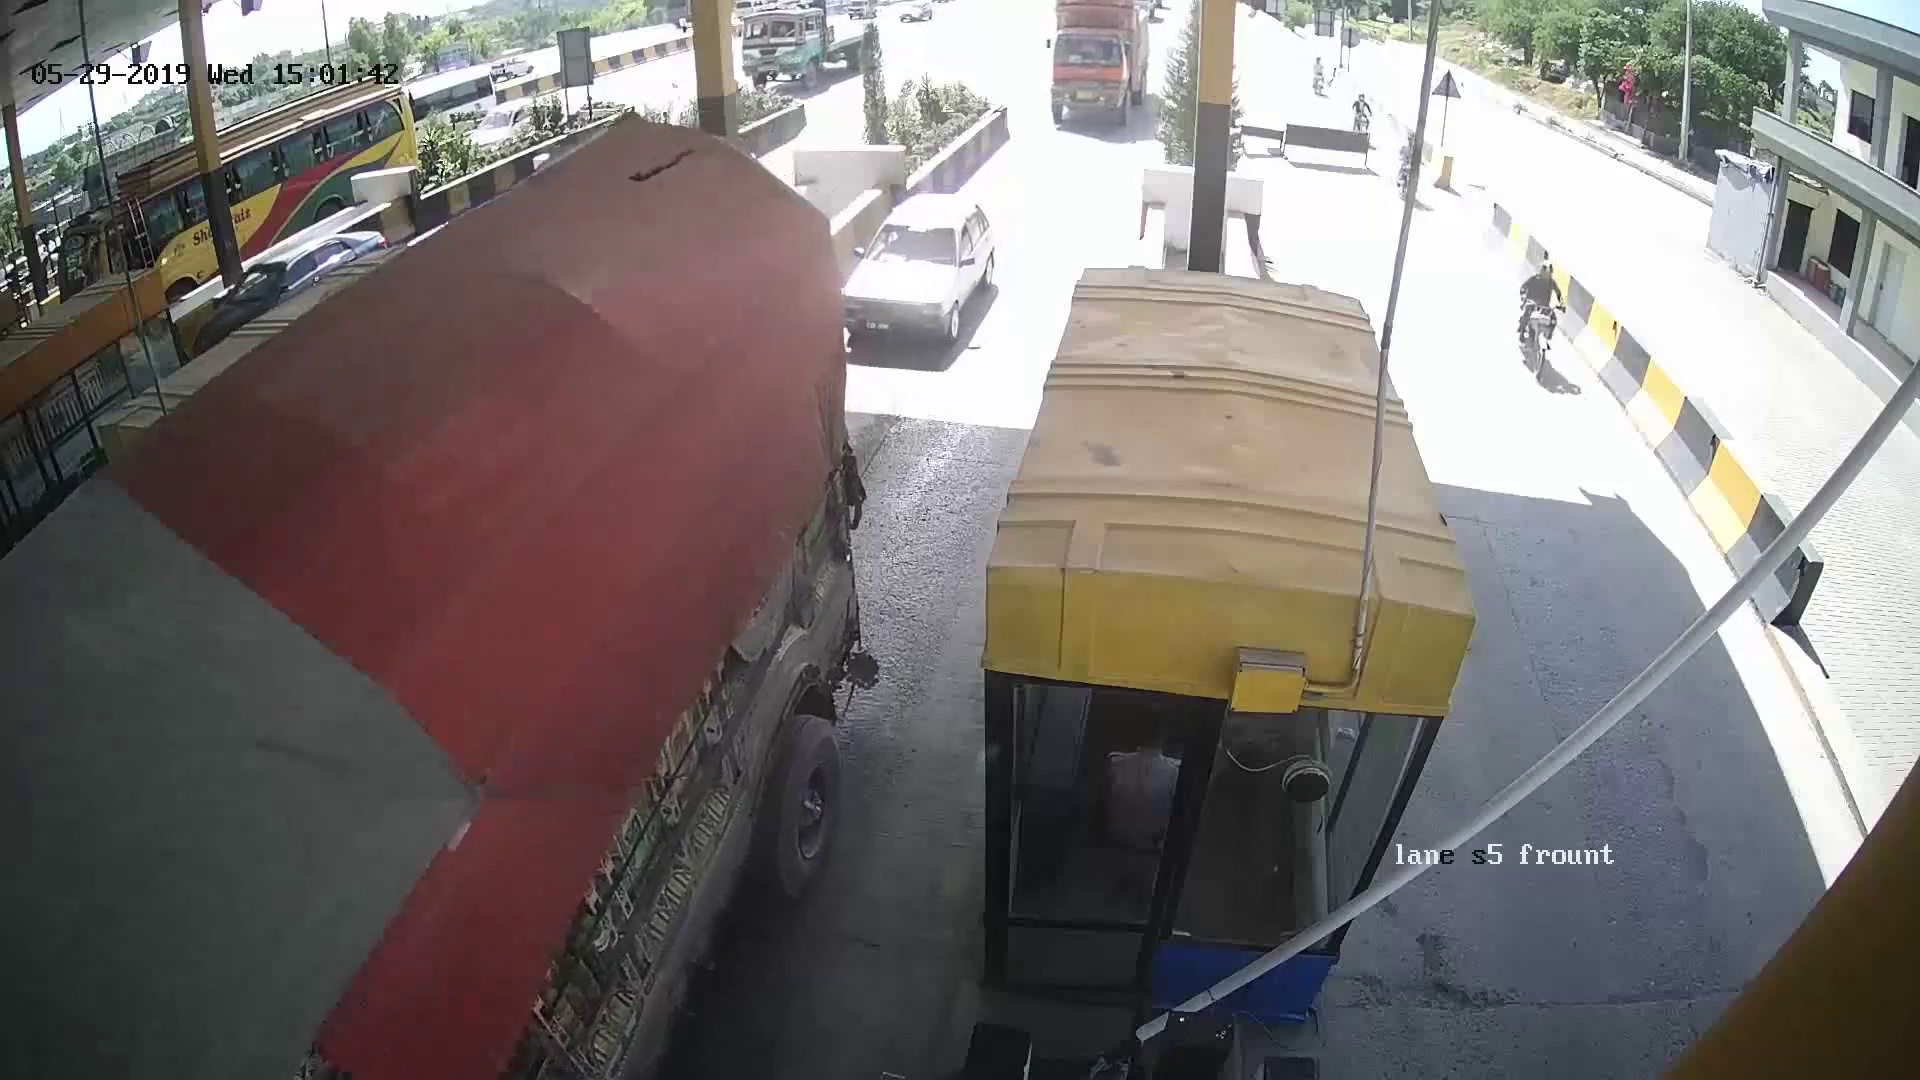car: (858, 203, 1006, 348)
truck: (135, 338, 777, 1009), (1038, 13, 1145, 132)
